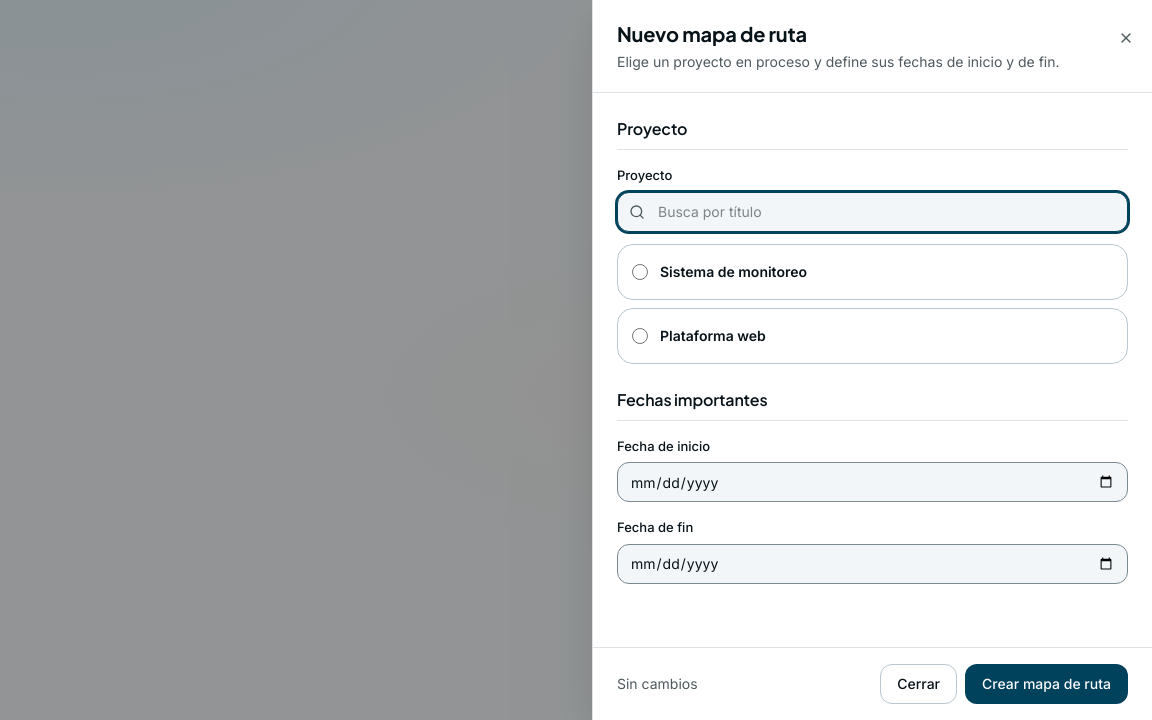
it: RegistrarMapaRutaPanel › un 422 MAPA_RUTA_DUPLICADO mantiene el panel, pinta el error del proyecto y notifica
Step 1. Type "2026-10-22" into the date field labelled "Fecha de inicio" → coordinates (872, 482), box [617,462,1128,502]
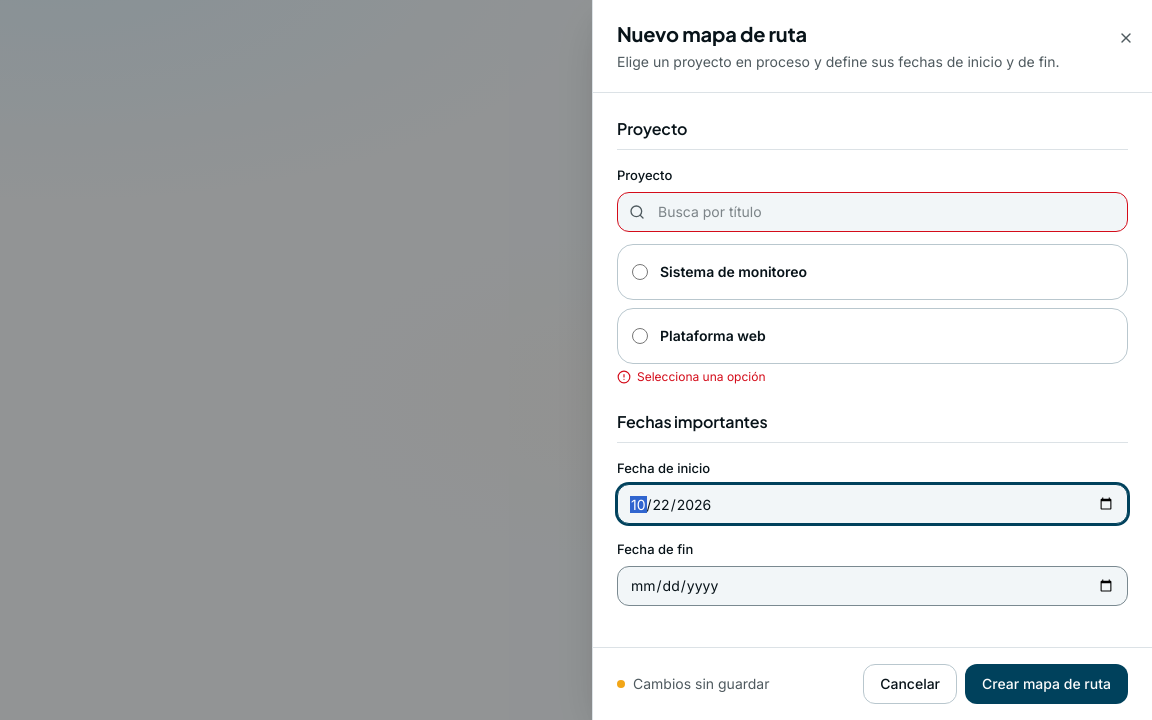
Step 2. Type "2026-12-01" into the date field labelled "Fecha de fin" → coordinates (872, 586), box [617,566,1128,606]
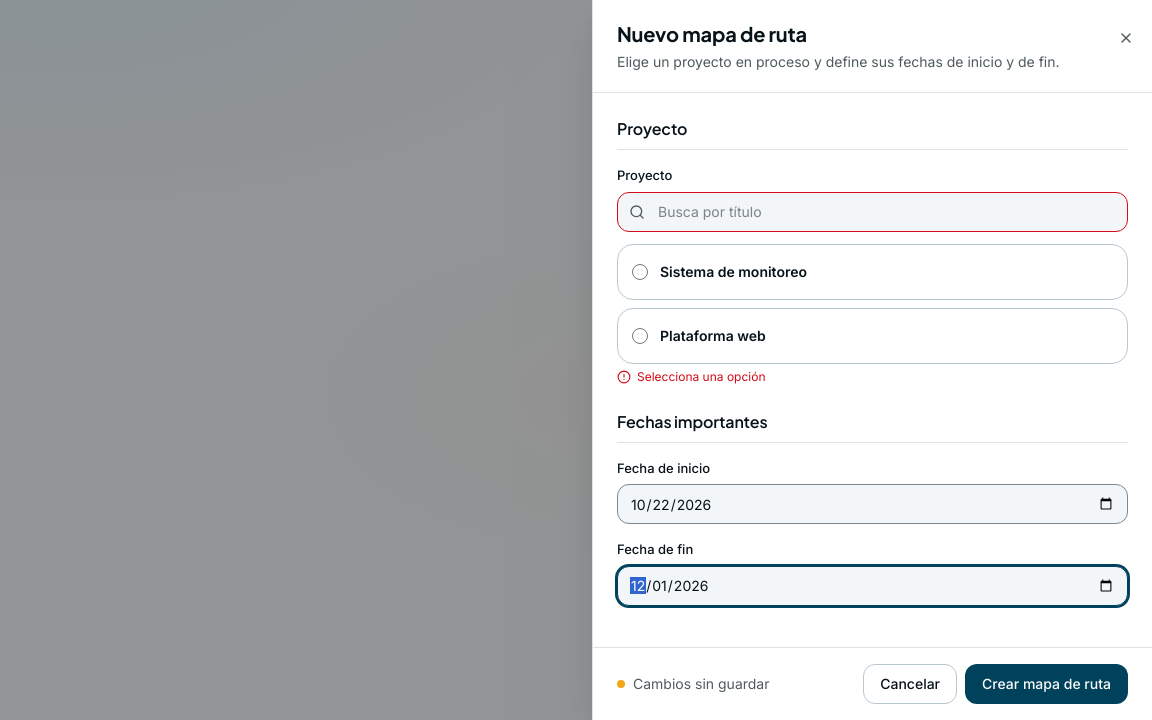
Step 3. Click the radio button labelled "Sistema de monitoreo" → coordinates (640, 272), box [632,264,648,280]
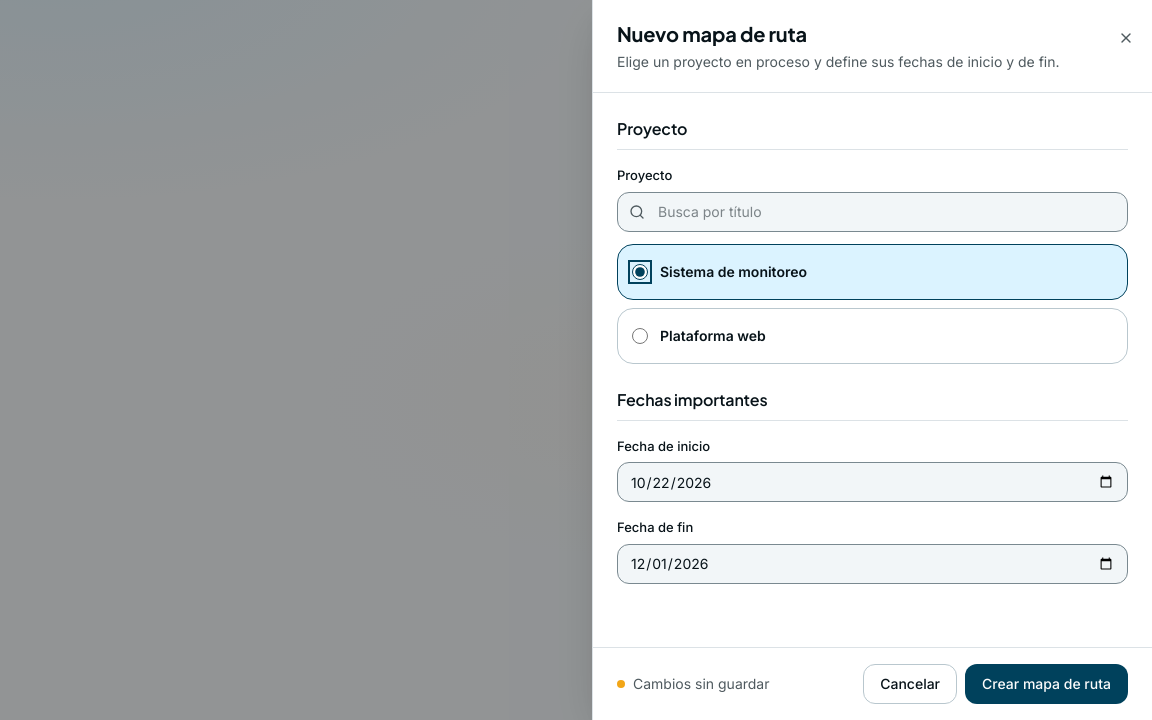
Step 4. Click the button "Crear mapa de ruta" → coordinates (1046, 684), box [965,664,1128,704]
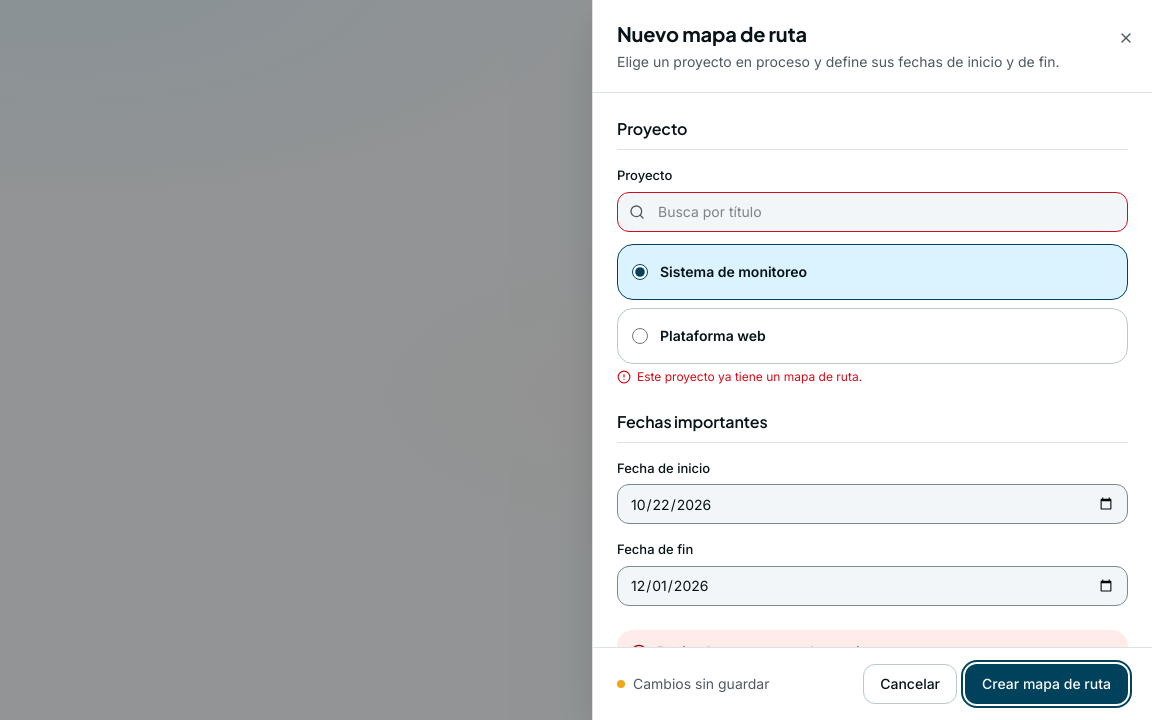
Expected: the text "Este proyecto ya tiene un mapa de ruta." is shown, [617,368,862,386]
